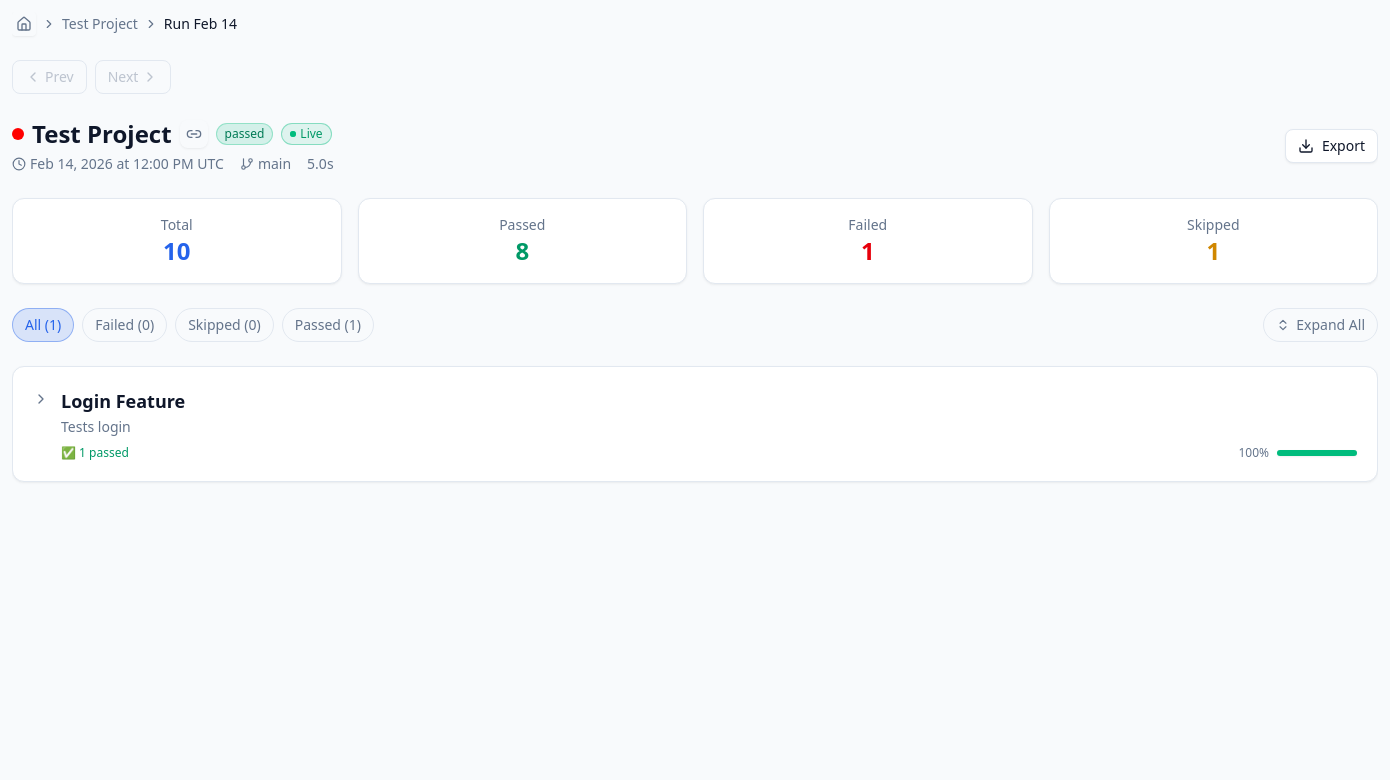
Test: RunClient › renders run details when data loads
This screenshot has width=1390, height=780.
Expected: the text "passed" is shown, [216,123,273,145]
// Expand the feature accordion to see scenarios
Click the heading "Login Feature": click(123, 401) [61,389,185,413]
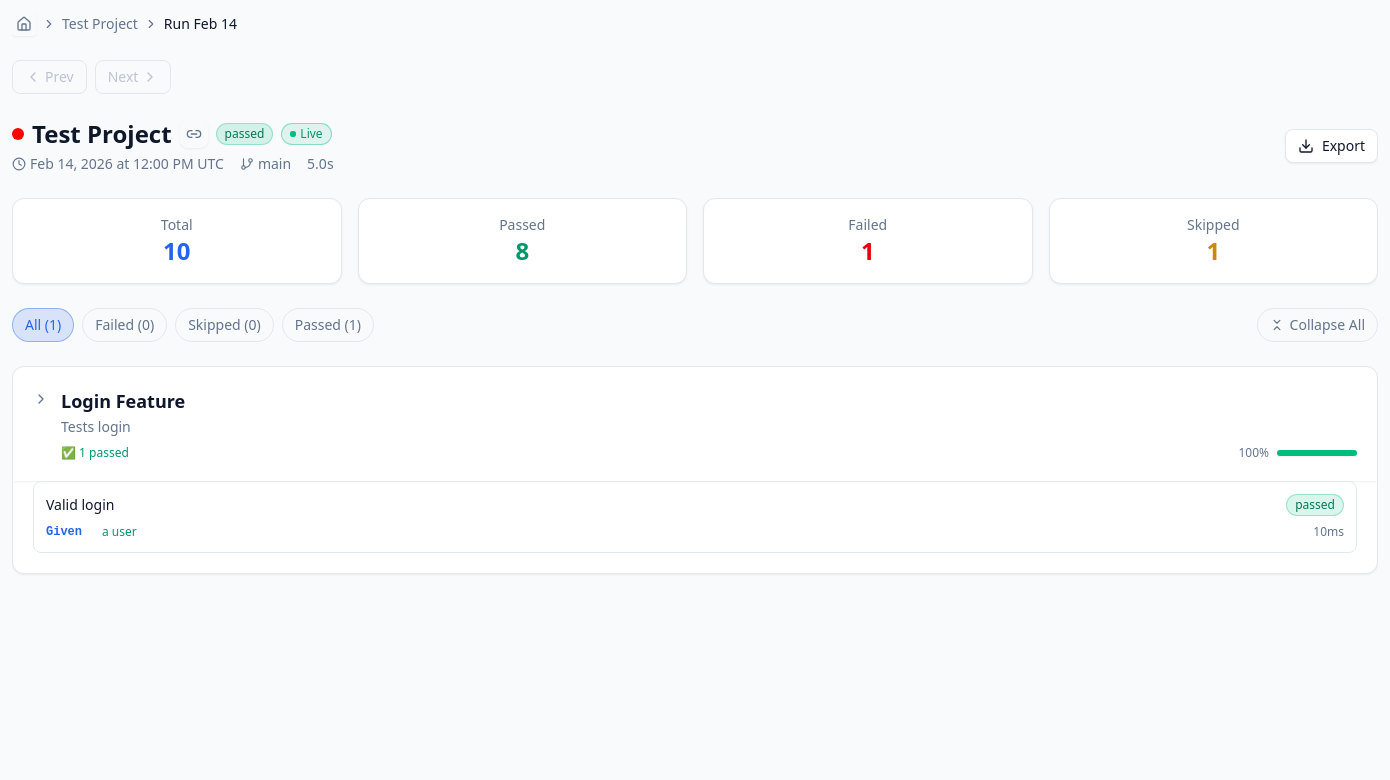
Now the text "Valid login" is shown, box [46,495,114,515]
